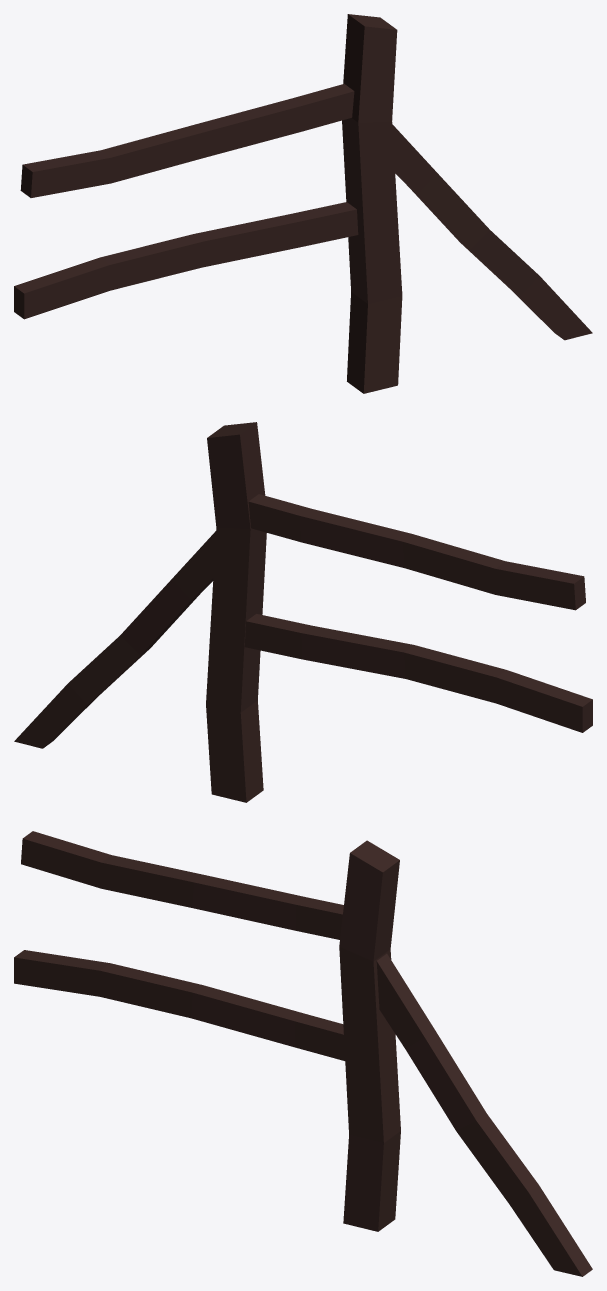
File: fence_short1.fbx
3 views of the same model, one above another, from view 1: azimuth 30°, elevation 25°; view 2: azimuth 150°, elevation 25°; view 3: azimuth 330°, elevation 25° (orthographic).
Parts seen in each view (by area): view 1: fence_s3; view 2: fence_s3; view 3: fence_s3.
Part boxes in pixels (box(x1,y1,x2,y2)): fence_s3: box(14, 14, 592, 393); fence_s3: box(14, 422, 592, 802); fence_s3: box(14, 831, 592, 1276).
Bounding box in the file's own units: 1.49 × 0.9215 × 0.09.
